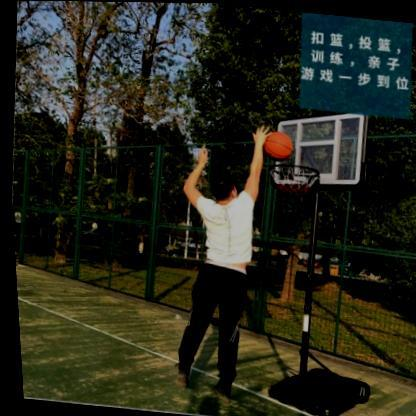basketball: (261, 130, 292, 161)
rim: (263, 161, 320, 206)
